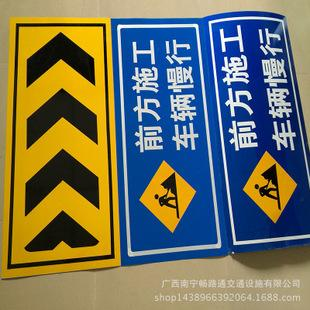sign: (13, 23, 114, 264), (211, 20, 306, 241), (118, 25, 205, 248)
